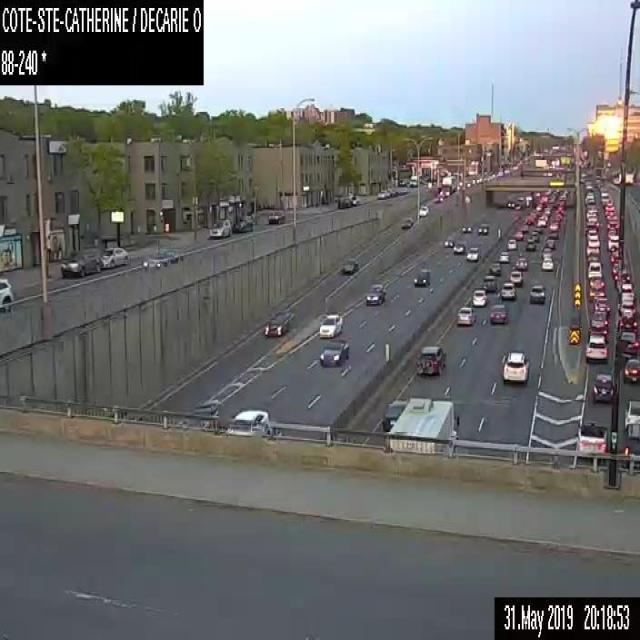bus: (386, 397, 459, 435)
vehicle: (60, 247, 100, 277), (226, 410, 268, 434), (415, 344, 446, 375), (576, 421, 606, 452), (318, 338, 348, 367), (502, 351, 529, 382), (382, 400, 407, 430), (141, 250, 182, 268), (264, 311, 290, 336), (585, 334, 608, 361), (592, 372, 612, 402), (318, 313, 342, 337), (625, 398, 639, 439), (100, 247, 127, 268), (620, 331, 639, 359), (365, 284, 385, 306), (209, 218, 231, 237), (489, 304, 508, 324), (456, 305, 476, 324), (587, 324, 606, 344), (413, 265, 430, 287), (624, 358, 639, 382), (232, 215, 253, 232), (439, 175, 456, 196), (0, 277, 13, 303), (529, 283, 545, 303), (620, 314, 637, 331), (341, 256, 358, 273), (591, 310, 608, 327), (500, 282, 516, 298), (587, 261, 602, 278), (620, 301, 636, 316), (482, 275, 497, 291), (614, 270, 629, 285), (472, 289, 486, 305), (594, 297, 610, 311), (268, 210, 284, 222), (401, 214, 415, 227), (589, 275, 604, 287), (589, 287, 604, 299), (337, 196, 352, 208), (607, 234, 618, 250), (509, 270, 522, 283), (606, 220, 618, 234), (487, 262, 501, 274), (466, 246, 478, 260), (587, 250, 600, 262), (584, 221, 596, 234), (621, 292, 635, 303), (515, 256, 527, 268), (541, 257, 553, 269), (476, 222, 488, 234), (584, 192, 595, 204), (498, 250, 509, 262), (541, 247, 552, 258), (544, 237, 555, 248), (526, 238, 536, 250), (452, 242, 464, 252), (588, 236, 599, 246), (600, 192, 610, 203), (586, 229, 598, 238), (586, 244, 598, 253), (377, 189, 389, 198), (611, 263, 618, 277), (610, 250, 618, 262), (622, 282, 632, 291), (604, 202, 614, 211), (507, 239, 516, 249), (419, 205, 428, 215), (548, 229, 558, 238), (586, 209, 597, 217), (461, 222, 472, 230), (530, 231, 538, 242), (549, 220, 558, 229), (587, 214, 597, 222), (606, 211, 616, 219), (514, 230, 522, 240), (443, 238, 453, 246), (409, 175, 417, 185), (537, 216, 545, 226), (534, 224, 542, 232), (524, 216, 533, 223), (530, 210, 537, 218), (506, 200, 514, 207), (520, 224, 528, 231), (541, 212, 547, 220), (544, 206, 550, 214), (352, 195, 356, 205)
